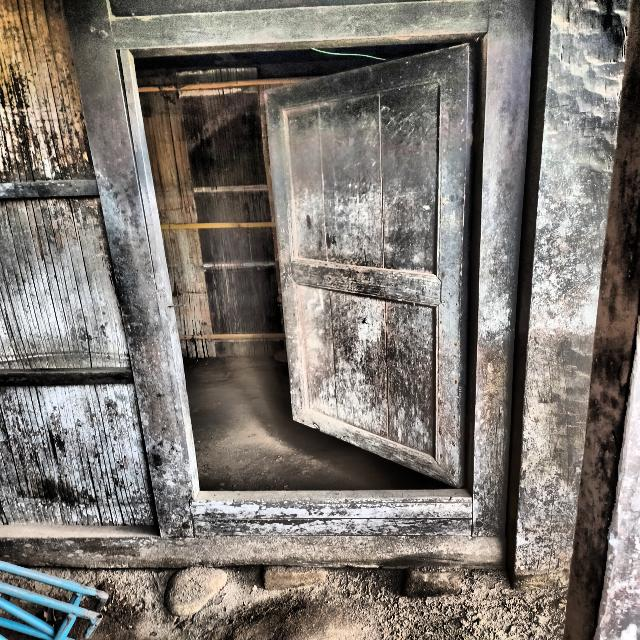door: (129, 35, 485, 500)
wall: (0, 196, 131, 370), (0, 384, 157, 526), (0, 1, 95, 181)
